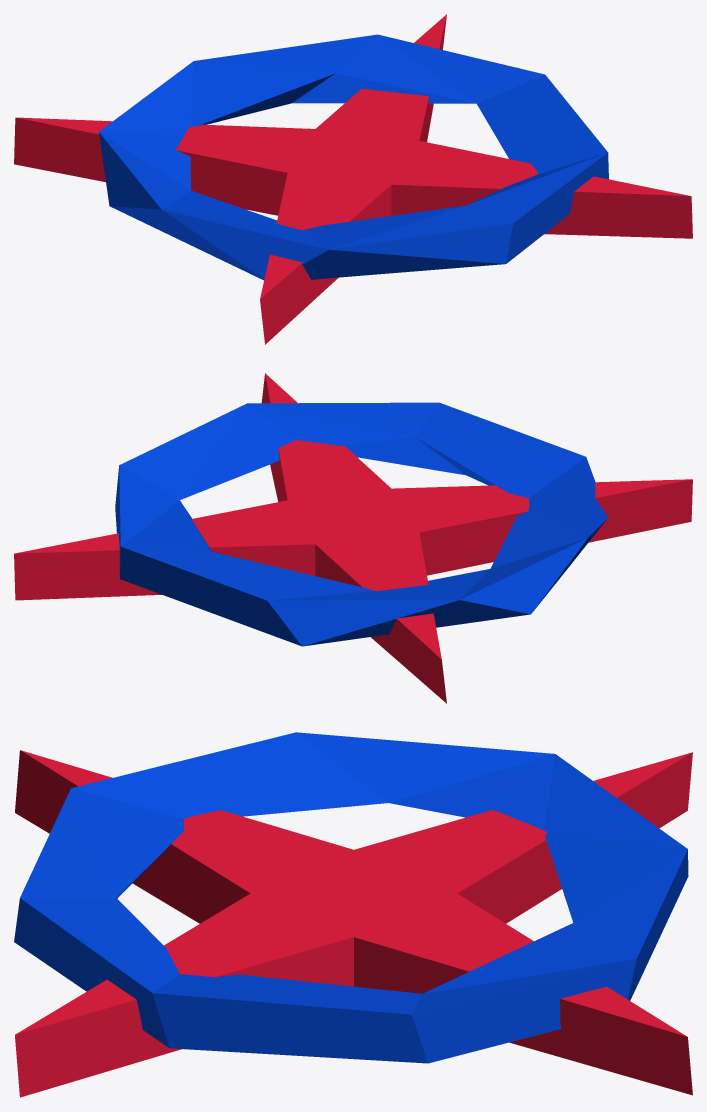
Rendered from TicTacToeXOXO.fbx.
3 views of the same model, one above another, from view 1: azimuth 30°, elevation 25°; view 2: azimuth 150°, elevation 25°; view 3: azimuth 270°, elevation 25° (orthographic). The views are drawn at different scales.
Visible parts, largest first — view 1: O, X; view 2: O, X; view 3: O, X.
Part boxes in pixels (bbox=[...]): O: bbox=[99, 34, 608, 280]; X: bbox=[14, 14, 692, 344]; O: bbox=[115, 402, 608, 646]; X: bbox=[14, 373, 692, 703]; O: bbox=[14, 732, 688, 1063]; X: bbox=[15, 750, 692, 1097].
Size of the model in its own units: 49.42 by 6.48 by 49.43.
